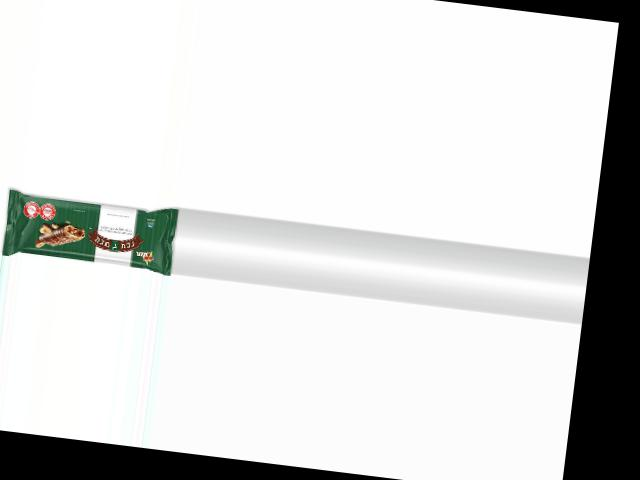chocolate: (0, 184, 181, 276)
